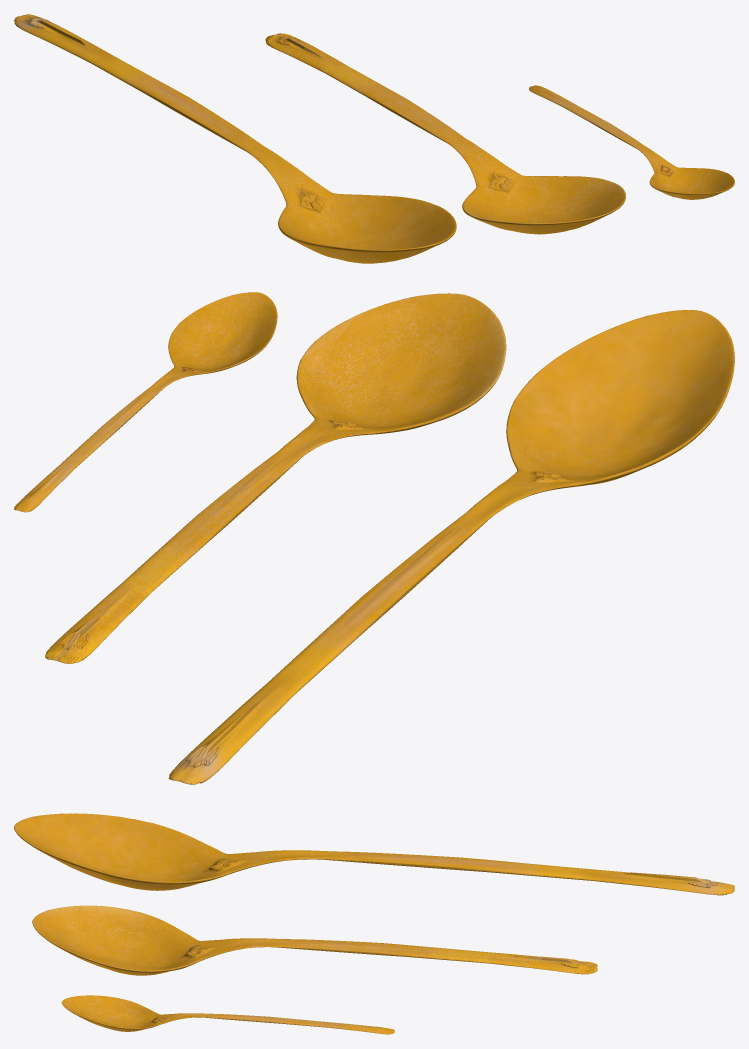
The model's file is golden_tablespoon_dessert_spoon_and_teaspoon.glb.
3 views of the same model, one above another, from view 1: azimuth 30°, elevation 25°; view 2: azimuth 150°, elevation 25°; view 3: azimuth 270°, elevation 25° (orthographic). The views are drawn at different scales.
Parts seen in each view (by area): view 1: defaultMaterial (×3); view 2: defaultMaterial (×3); view 3: defaultMaterial (×3).
Boxes of the visible parts, x1=… form: defaultMaterial (×3): x1=14, y1=14, x2=734, y2=263; defaultMaterial (×3): x1=14, y1=292, x2=734, y2=784; defaultMaterial (×3): x1=14, y1=813, x2=734, y2=1034.
Bounding box in the file's own units: 556 × 96.68 × 932.
Materials: 1 (1 with a texture image).
